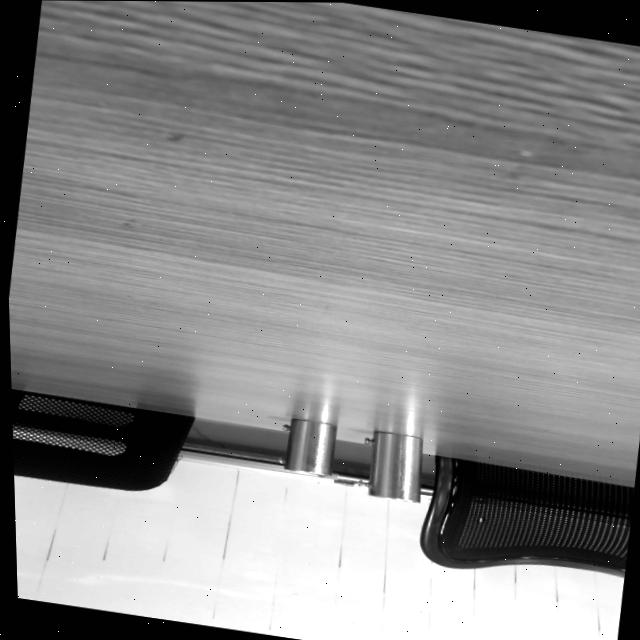Co_Lon: (356, 430, 426, 503)
Co_Nho: (277, 417, 339, 477)
